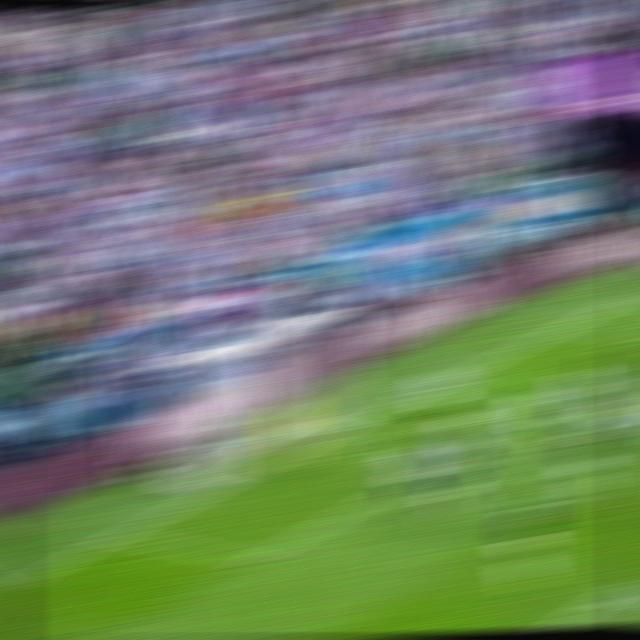bigarea_top_outter: (545, 318, 584, 334)
bottom_arc_area_intersection: (578, 582, 628, 619)
smallarea_bottom_inner: (228, 540, 280, 577)
smallarea_bottom_outter: (97, 521, 143, 549)
smallarea_top_outter: (402, 384, 440, 402)
